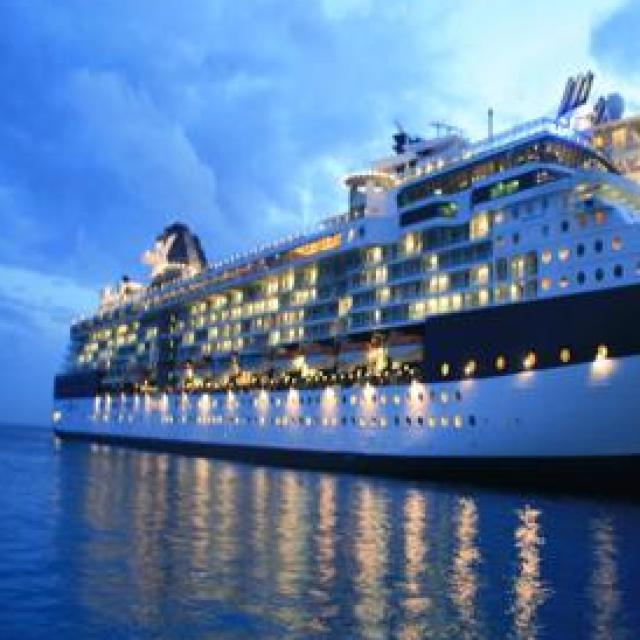passenger ship: (47, 67, 640, 481)
